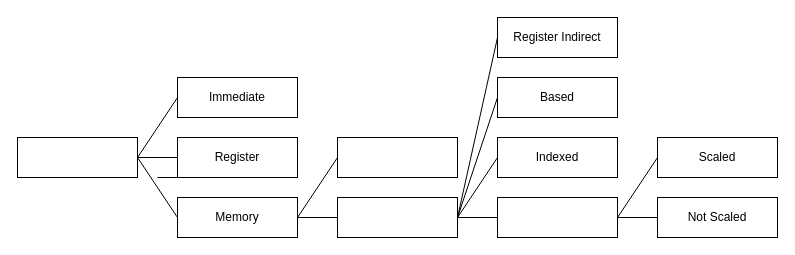
The diagram is 795 pixels wide and 255 high, and some of its shapes have lost their labels. The centre of each missing label's shape, as x and y in pixels:
Addressing Modes: pixel 77 157
Based-Indexed: pixel 557 217
Direct: pixel 397 157
Indirect: pixel 397 217
